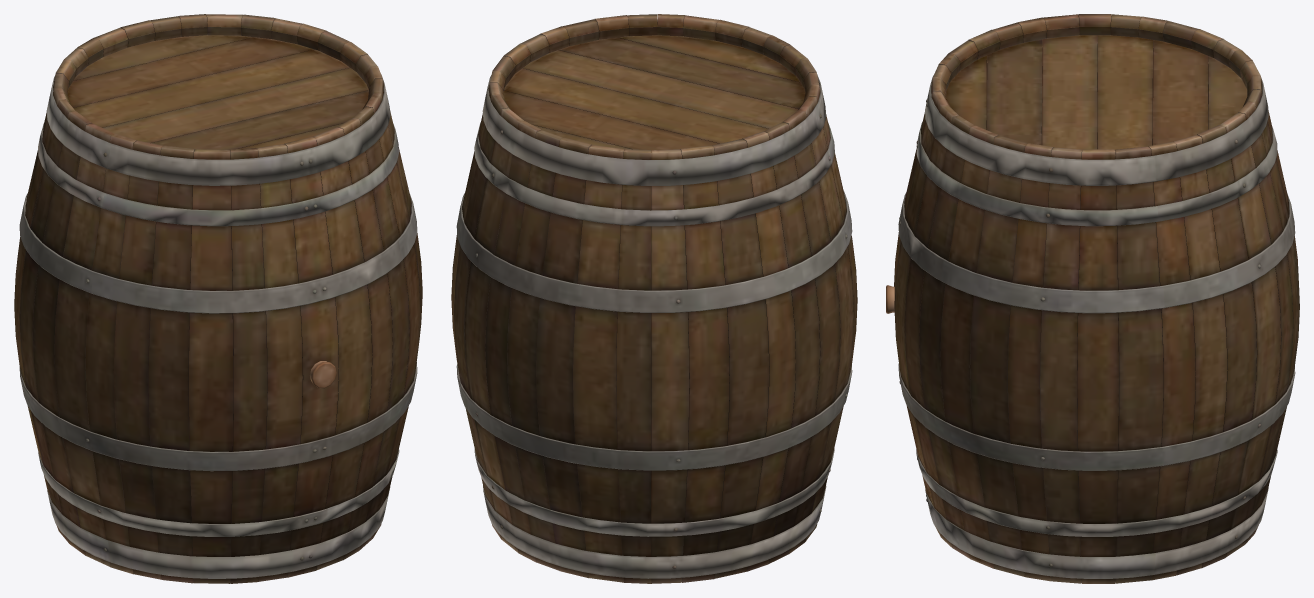
The model's file is barrel.glb.
3 renders of one model, left to right at view 1: azimuth 30°, elevation 25°; view 2: azimuth 150°, elevation 25°; view 3: azimuth 270°, elevation 25°, orthographic.
Visible parts, largest first — view 1: wine_barrel_01, wine_barrel_01_Lid, wine_barrel_01_bung; view 2: wine_barrel_01, wine_barrel_01_Lid; view 3: wine_barrel_01, wine_barrel_01_Lid.
Boxes of the visible parts, x1=… form: wine_barrel_01: x1=14, y1=14, x2=422, y2=583; wine_barrel_01_Lid: x1=67, y1=35, x2=368, y2=149; wine_barrel_01_bung: x1=310, y1=361, x2=336, y2=388; wine_barrel_01: x1=451, y1=14, x2=857, y2=583; wine_barrel_01_Lid: x1=503, y1=35, x2=805, y2=152; wine_barrel_01: x1=894, y1=14, x2=1299, y2=583; wine_barrel_01_Lid: x1=946, y1=35, x2=1247, y2=149.
Size of the model in its own units: 0.7419 by 0.8704 by 0.756.
1 material, 1 textured.
